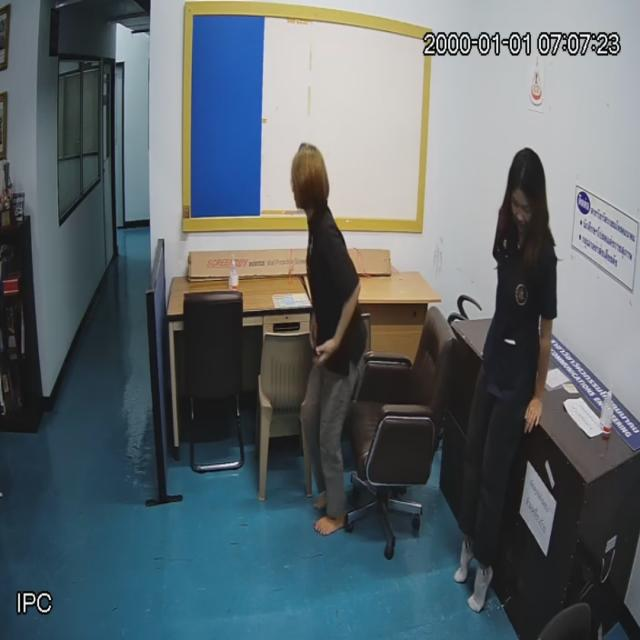normal: (453, 142, 557, 615), (287, 142, 378, 553)
